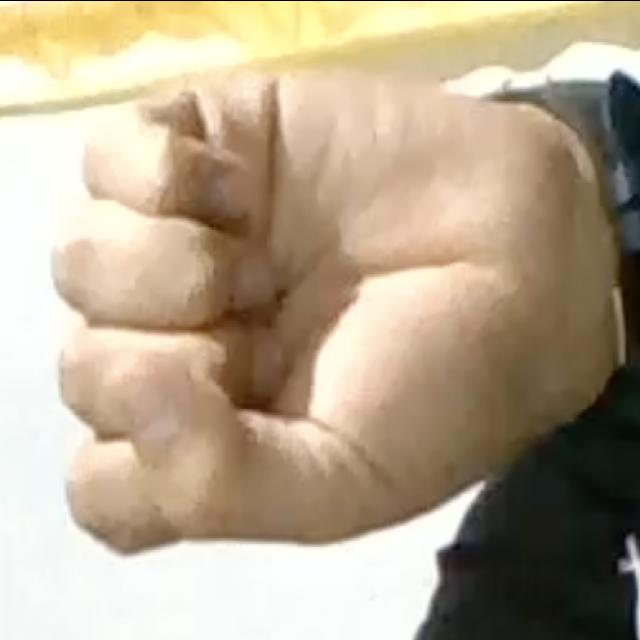S: (40, 58, 598, 569)
